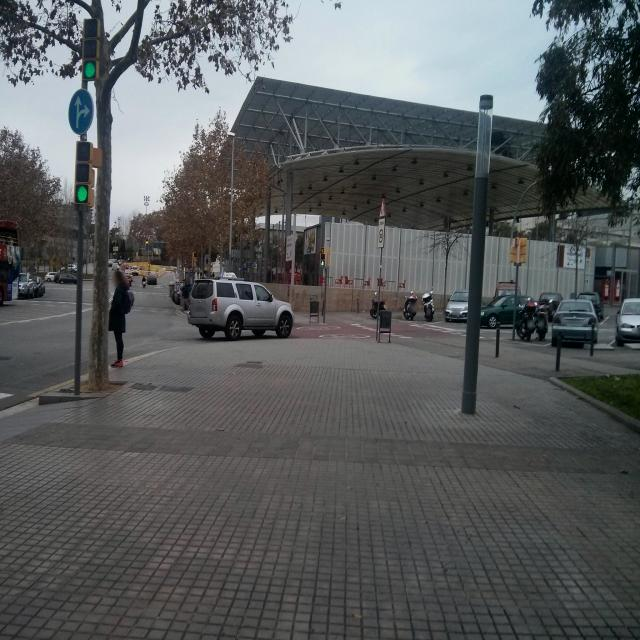bike: (515, 298, 535, 342), (366, 295, 388, 318), (537, 301, 549, 343), (403, 290, 417, 324), (422, 292, 434, 321)
car: (186, 276, 294, 341), (549, 298, 599, 348), (480, 294, 535, 328), (443, 290, 492, 322), (614, 297, 640, 347), (574, 290, 604, 322), (536, 291, 563, 319), (17, 278, 35, 298), (32, 277, 46, 297), (172, 281, 184, 304), (58, 272, 77, 284), (146, 274, 158, 286), (131, 266, 139, 276)
